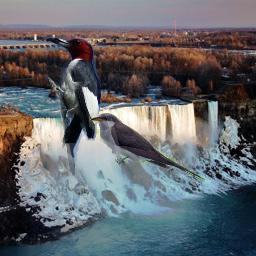Cuckoo: (89, 113, 205, 183)
Woodpecker: (46, 36, 101, 176)
